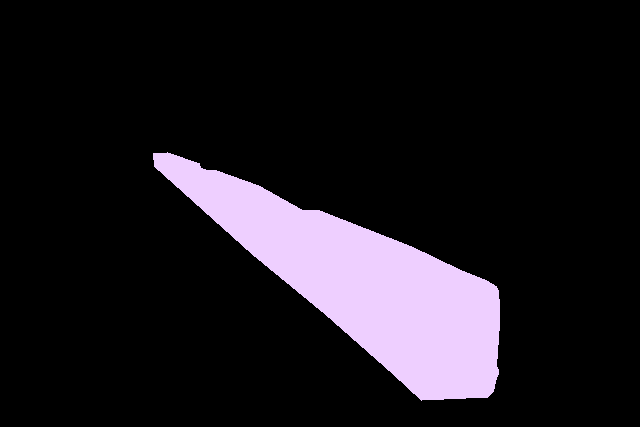Train: (153, 152, 499, 400)
